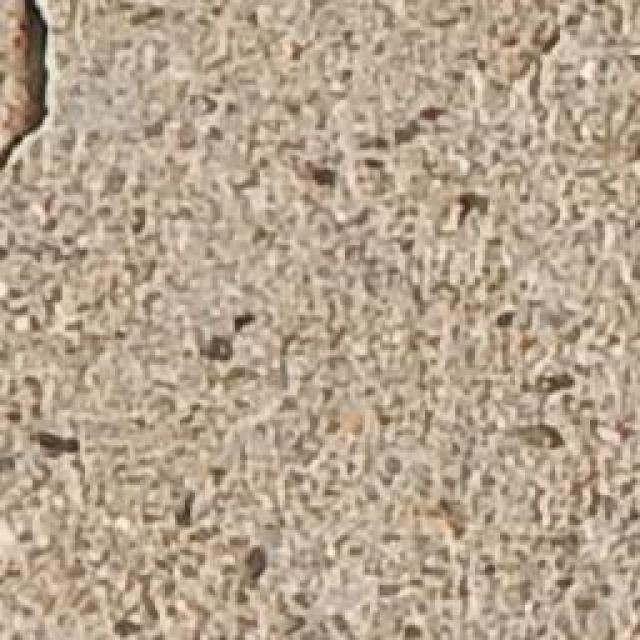concrete-crack: (0, 0, 63, 173)
